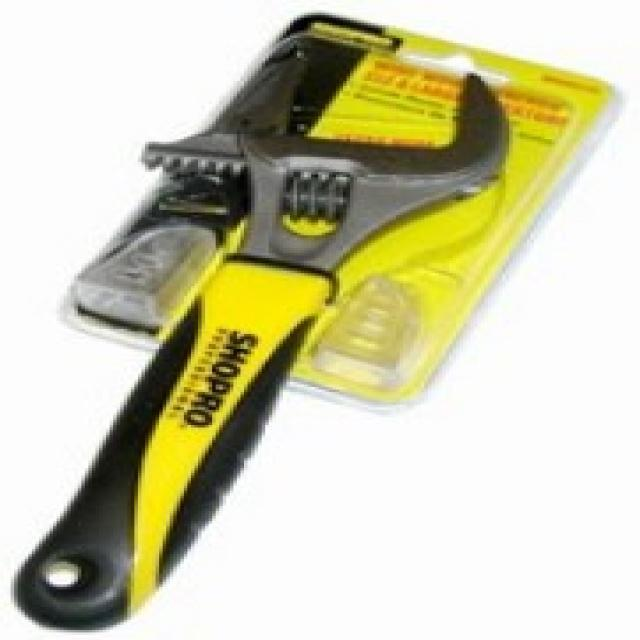wrench: (0, 50, 518, 634)
